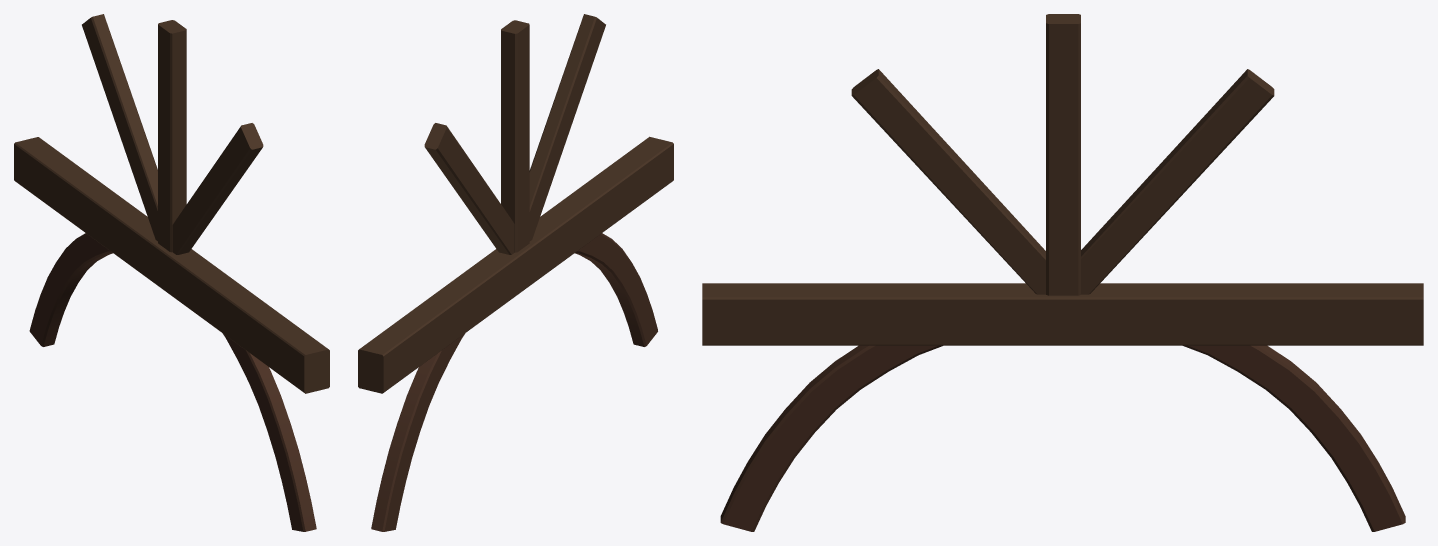
Rendered from SM_RoofCenter.fbx.
The picture shows the model from 3 angles, left to right: view 1: azimuth 30°, elevation 25°; view 2: azimuth 150°, elevation 25°; view 3: azimuth 270°, elevation 25°; orthographic projection. The views are drawn at different scales.
Visible parts, largest first — view 1: SM_RoofCenter; view 2: SM_RoofCenter; view 3: SM_RoofCenter.
Part boxes in pixels (x1,y1,x2,y2): SM_RoofCenter: (14, 14, 329, 531); SM_RoofCenter: (358, 14, 673, 531); SM_RoofCenter: (702, 14, 1423, 531).
Size of the model in its own units: 0.2885 by 4.44 by 5.7.
